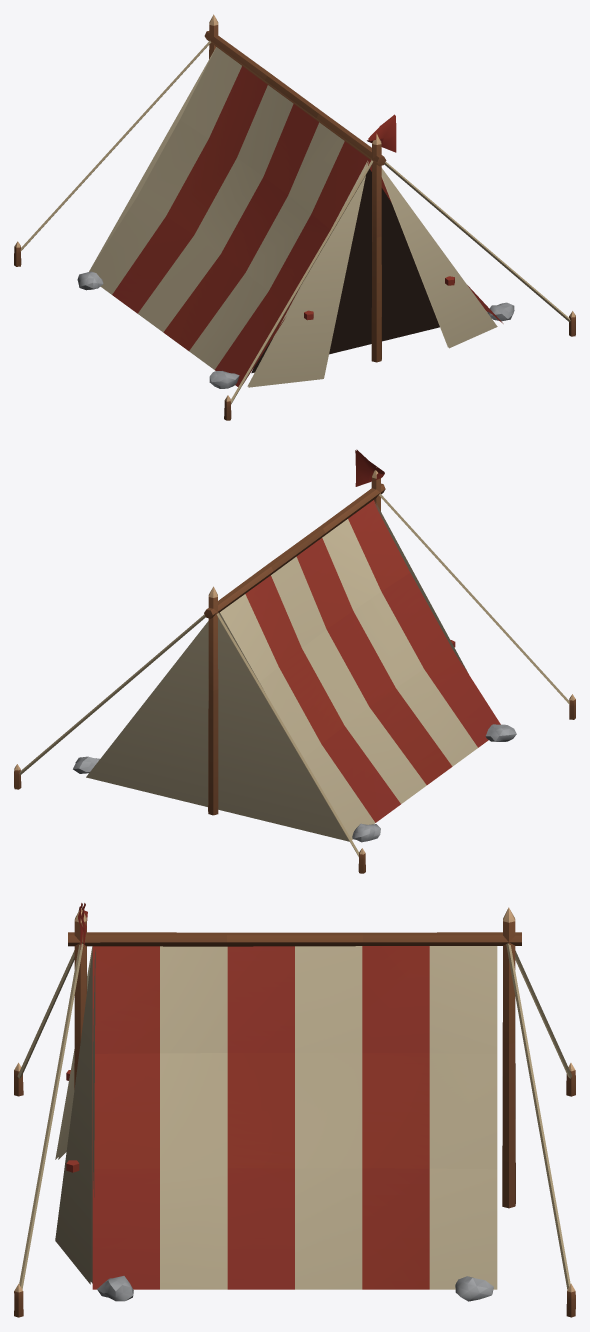
The model's file is muster_tent_large.glb.
3 renders of one model, top to bottom at view 1: azimuth 30°, elevation 25°; view 2: azimuth 150°, elevation 25°; view 3: azimuth 270°, elevation 25°, orthographic. The views are drawn at different scales.
Parts seen in each view (by area): view 1: MusterTentLargeBody; view 2: MusterTentLargeBody; view 3: MusterTentLargeBody.
Part boxes in pixels (x1,y1,x2,y2): MusterTentLargeBody: (14,14,575,420); MusterTentLargeBody: (14,449,575,873); MusterTentLargeBody: (14,903,575,1317).
Bounding box in the file's own units: 5.4 × 3.52 × 5.7.
